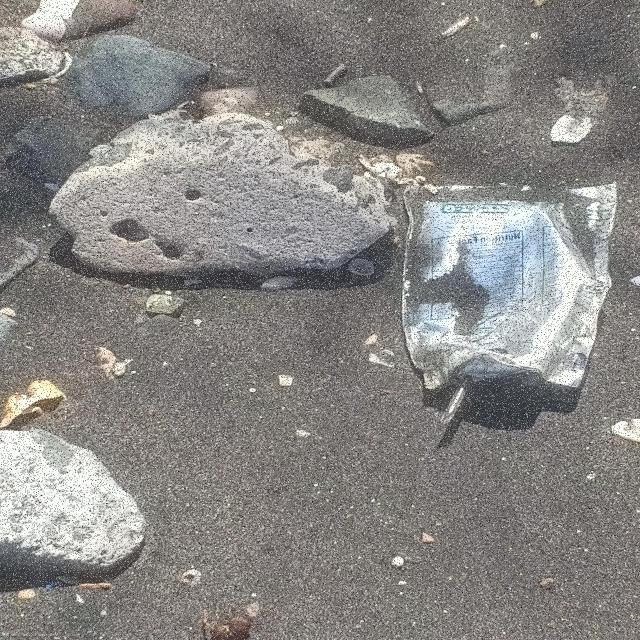plastic_waste: (400, 182, 619, 425)
